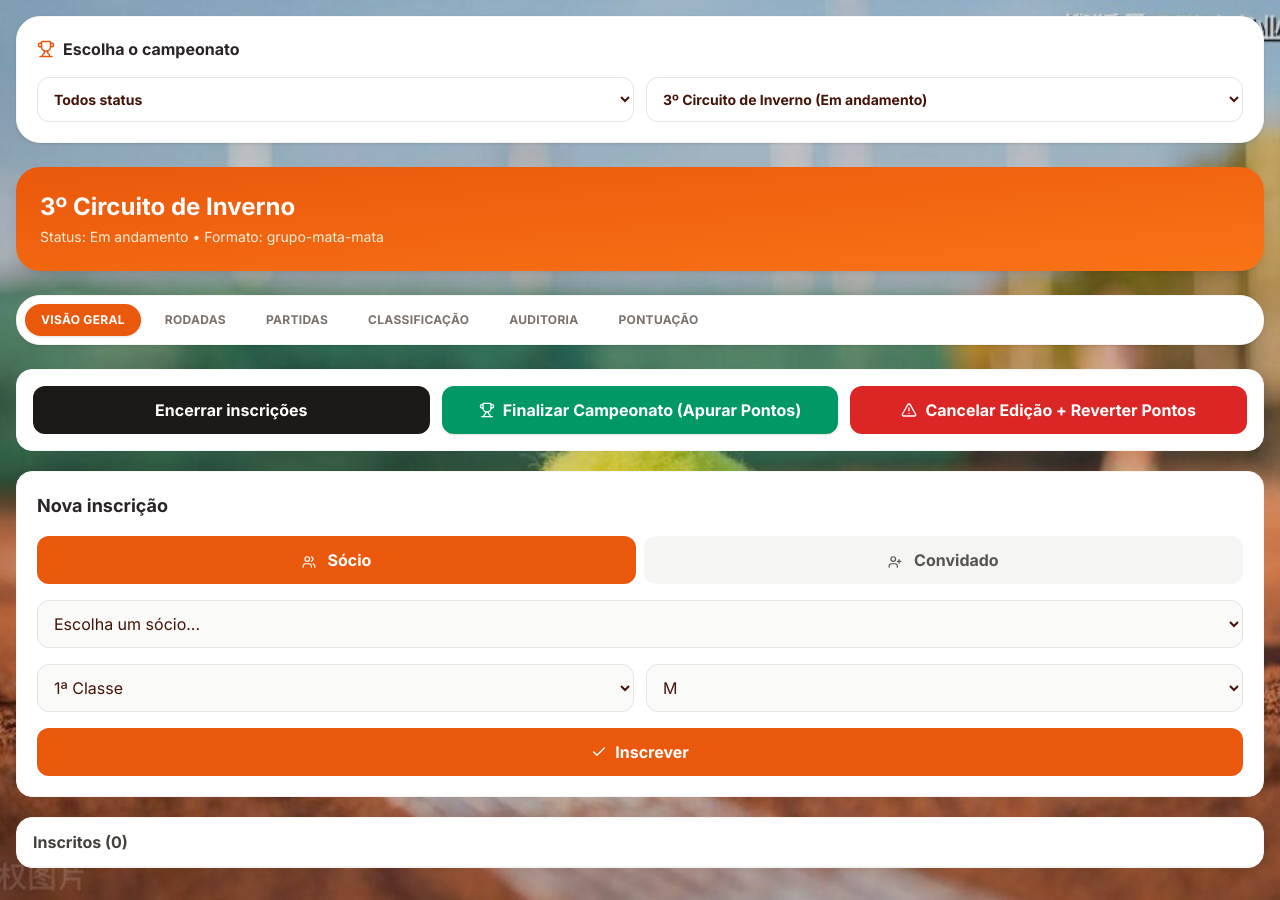
Test: ChampionshipAdmin — ações que mexem no ranking › avisa que o ranking de todos muda antes de encerrar
Click the button "Finalizar Campeonato (Apurar Pontos)" at (640, 410), box 442,386 -> 838,434
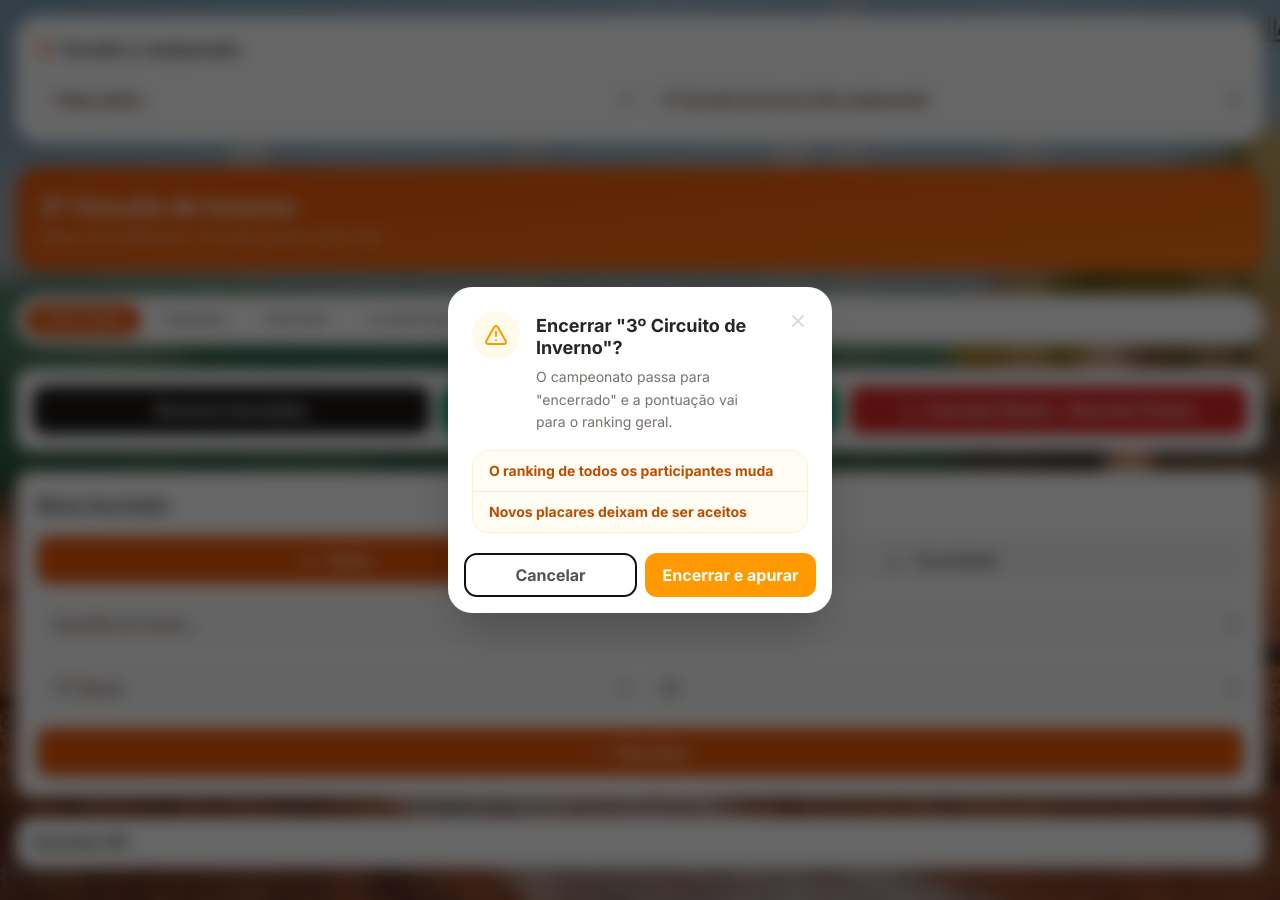
Expected: the heading "Encerrar \"3º Circuito de Inverno\"?" is shown, 536,315 -> 768,360
Expected: the list item "O ranking de todos os participantes muda" is shown, 473,451 -> 807,492
